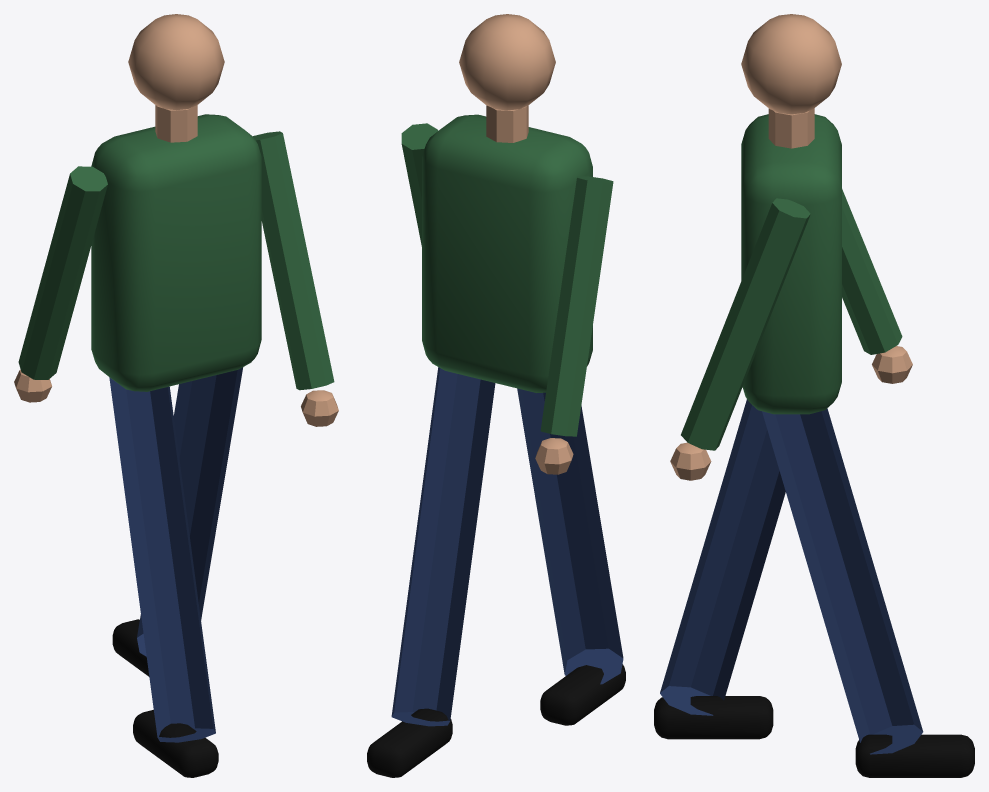
File: people.public.man_walking.glb
3 views of the same model, side by side, from view 1: azimuth 30°, elevation 25°; view 2: azimuth 150°, elevation 25°; view 3: azimuth 270°, elevation 25° (orthographic). The views are drawn at different scales.
Visible parts, largest first — view 1: main__fabric_green, main__denim, main__skin, main__plastic_black; view 2: main__fabric_green, main__denim, main__skin, main__plastic_black; view 3: main__denim, main__fabric_green, main__skin, main__plastic_black.
Boxes of the visible parts, x1,y1,x2,y2 form: main__fabric_green: (18,114,334,391); main__denim: (109,367,243,742); main__skin: (14,14,338,426); main__plastic_black: (112,619,218,777); main__fabric_green: (401,114,613,436); main__denim: (391,367,623,726); main__skin: (459,14,573,474); main__plastic_black: (367,664,625,777); main__denim: (660,399,923,754); main__fabric_green: (681,114,902,450); main__skin: (670,14,912,480); main__plastic_black: (654,696,974,777).
Size of the model in its own units: 0.59 by 1.77 by 0.7.
